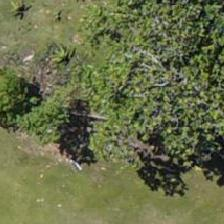coconut_tree: (14, 10, 104, 100), (13, 0, 103, 57), (0, 0, 57, 52)
